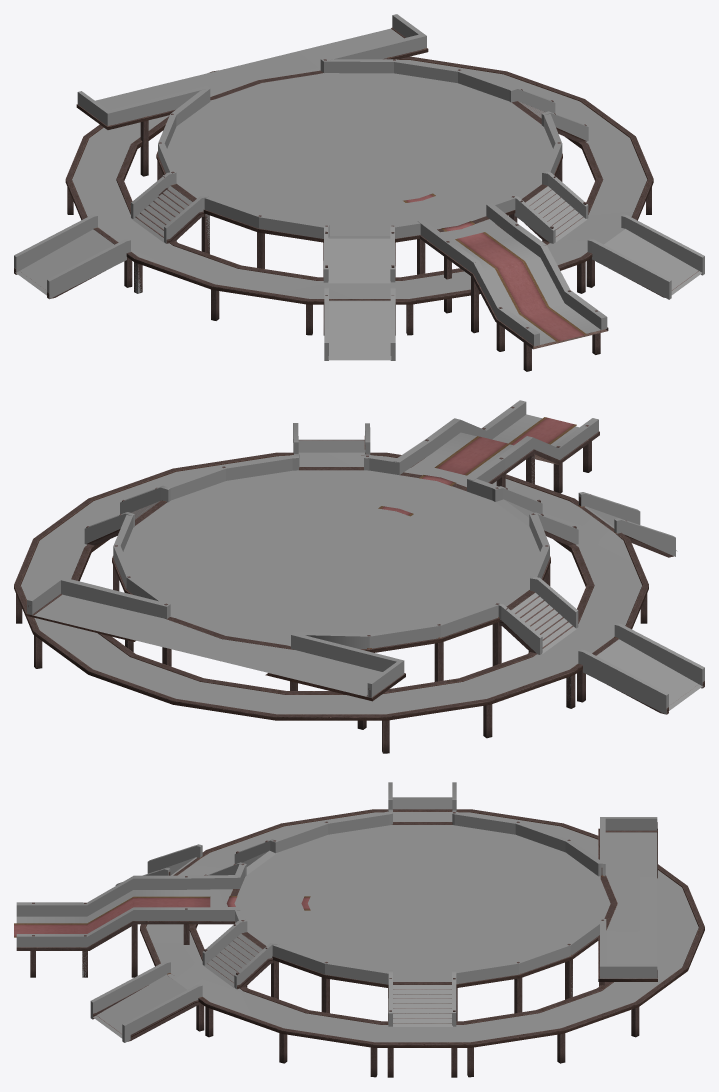
Rendered from Scene_Build_HuanYinFang_YuanTai_5.FBX.
3 renders of one model, top to bottom at view 1: azimuth 30°, elevation 25°; view 2: azimuth 150°, elevation 25°; view 3: azimuth 270°, elevation 25°, orthographic. The views are drawn at different scales.
Visible parts, largest first — view 1: Scene_Build_HuanYinFang_YuanTai_5_P_Xzm, Scene_Build_HuanYinFang_YuanTai_5_Xzm, Scene_Build_HuanYinFang_YuanTai_5; view 2: Scene_Build_HuanYinFang_YuanTai_5_P_Xzm, Scene_Build_HuanYinFang_YuanTai_5_Xzm, Scene_Build_HuanYinFang_YuanTai_5; view 3: Scene_Build_HuanYinFang_YuanTai_5_P_Xzm, Scene_Build_HuanYinFang_YuanTai_5_Xzm, Scene_Build_HuanYinFang_YuanTai_5.
Part boxes in pixels (<box>): Scene_Build_HuanYinFang_YuanTai_5_P_Xzm: <box>15,28,701,360</box>; Scene_Build_HuanYinFang_YuanTai_5_Xzm: <box>14,14,704,360</box>; Scene_Build_HuanYinFang_YuanTai_5: <box>14,27,698,371</box>; Scene_Build_HuanYinFang_YuanTai_5_P_Xzm: <box>21,414,702,714</box>; Scene_Build_HuanYinFang_YuanTai_5_Xzm: <box>27,400,704,714</box>; Scene_Build_HuanYinFang_YuanTai_5: <box>14,406,704,753</box>; Scene_Build_HuanYinFang_YuanTai_5_P_Xzm: <box>16,797,698,1042</box>; Scene_Build_HuanYinFang_YuanTai_5_Xzm: <box>16,782,657,1042</box>; Scene_Build_HuanYinFang_YuanTai_5: <box>14,809,704,1077</box>.
Bounding box in the file's own units: 7023 × 840 × 7550.
